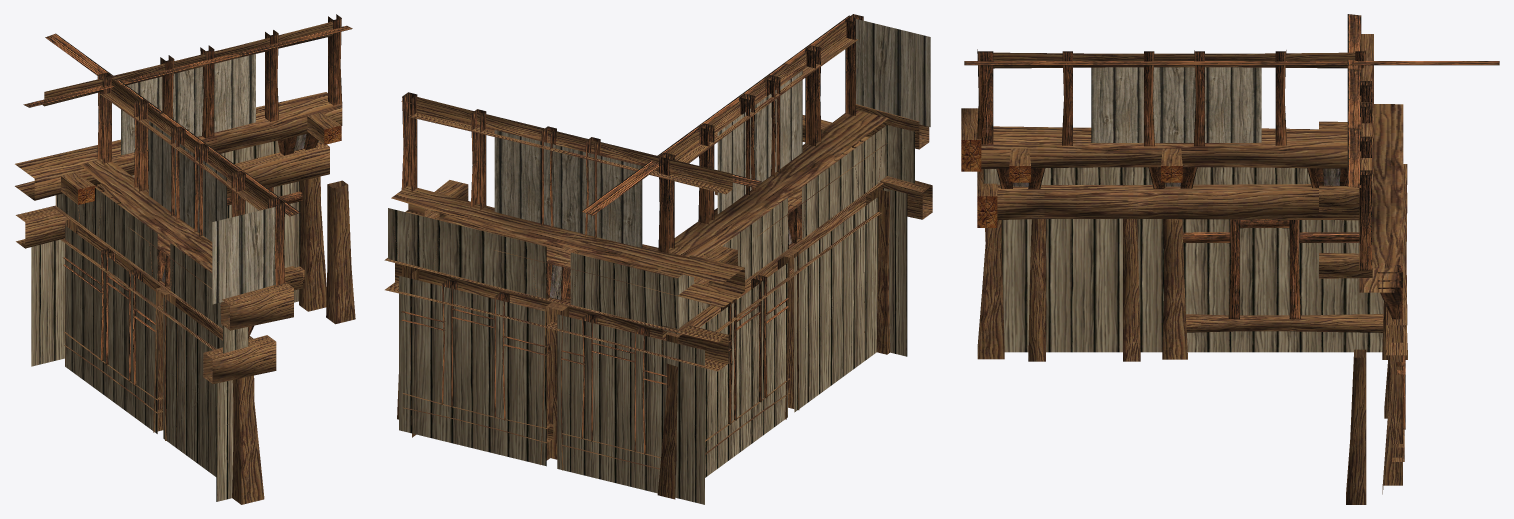
File: LAKETOWN_EXTERIOR_PS_LT_LHOUSE978__GX.fbx
3 renders of one model, left to right at view 1: azimuth 30°, elevation 25°; view 2: azimuth 150°, elevation 25°; view 3: azimuth 270°, elevation 25°, orthographic. The views are drawn at different scales.
Parts seen in each view (by area): view 1: LAKETOWN_EXTERIOR_PS_LT_LHOUSE978__GX; view 2: LAKETOWN_EXTERIOR_PS_LT_LHOUSE978__GX; view 3: LAKETOWN_EXTERIOR_PS_LT_LHOUSE978__GX.
Boxes of the visible parts, x1=… form: LAKETOWN_EXTERIOR_PS_LT_LHOUSE978__GX: x1=15, y1=14, x2=355, y2=504; LAKETOWN_EXTERIOR_PS_LT_LHOUSE978__GX: x1=384, y1=14, x2=932, y2=504; LAKETOWN_EXTERIOR_PS_LT_LHOUSE978__GX: x1=961, y1=14, x2=1499, y2=504.
Size of the model in its own units: 60887 by 53343 by 79796.
Materials: 8 (8 with a texture image).
